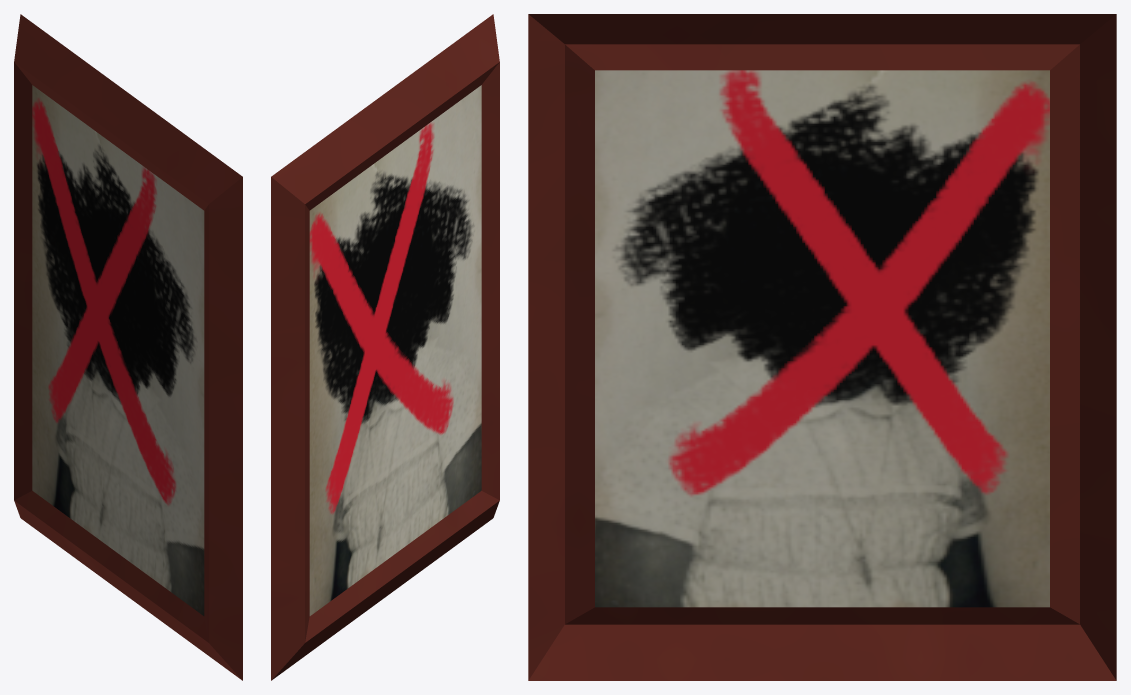
The model's file is Cuadro4.fbx.
3 renders of one model, left to right at view 1: azimuth 30°, elevation 25°; view 2: azimuth 150°, elevation 25°; view 3: azimuth 270°, elevation 25°, orthographic. The views are drawn at different scales.
Visible parts, largest first — view 1: Cuadro.001; view 2: Cuadro.001; view 3: Cuadro.001.
Part boxes in pixels (<box>): Cuadro.001: <box>14,14,242,680</box>; Cuadro.001: <box>271,14,499,680</box>; Cuadro.001: <box>528,14,1116,680</box>.
Bounding box in the file's own units: 4.05 × 96.47 × 77.11.
